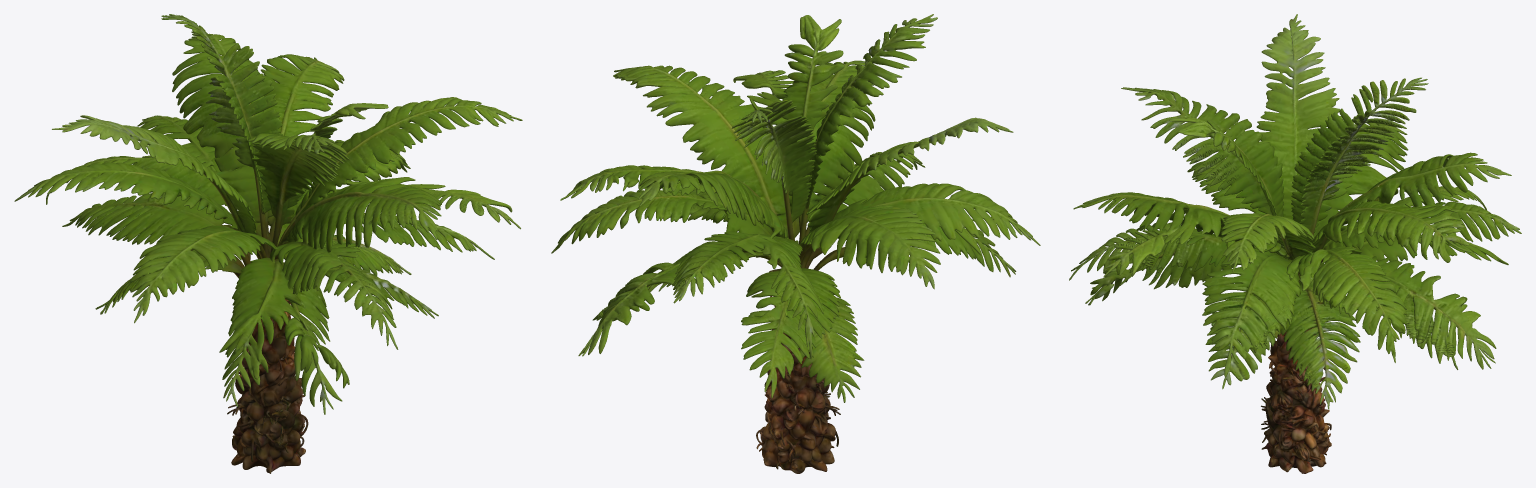
File: tree-fern.glb
The picture shows the model from 3 angles, left to right: view 1: azimuth 30°, elevation 25°; view 2: azimuth 150°, elevation 25°; view 3: azimuth 270°, elevation 25°; orthographic projection. The views are drawn at different scales.
Parts seen in each view (by area): view 1: tripo_node_2ee4cb31-5fd8-4d9b-873f-033f6c74e3b0; view 2: tripo_node_2ee4cb31-5fd8-4d9b-873f-033f6c74e3b0; view 3: tripo_node_2ee4cb31-5fd8-4d9b-873f-033f6c74e3b0.
Part boxes in pixels (box(x1,y1,x2,y2)): tripo_node_2ee4cb31-5fd8-4d9b-873f-033f6c74e3b0: box(14, 14, 522, 473); tripo_node_2ee4cb31-5fd8-4d9b-873f-033f6c74e3b0: box(551, 14, 1040, 473); tripo_node_2ee4cb31-5fd8-4d9b-873f-033f6c74e3b0: box(1069, 14, 1521, 473).
Bounding box in the file's own units: 0.9789 × 0.8667 × 0.9644.
Materials: 1 (1 with a texture image).
